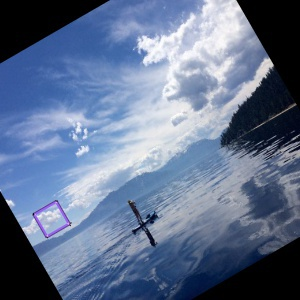square: (30, 199, 73, 239)
